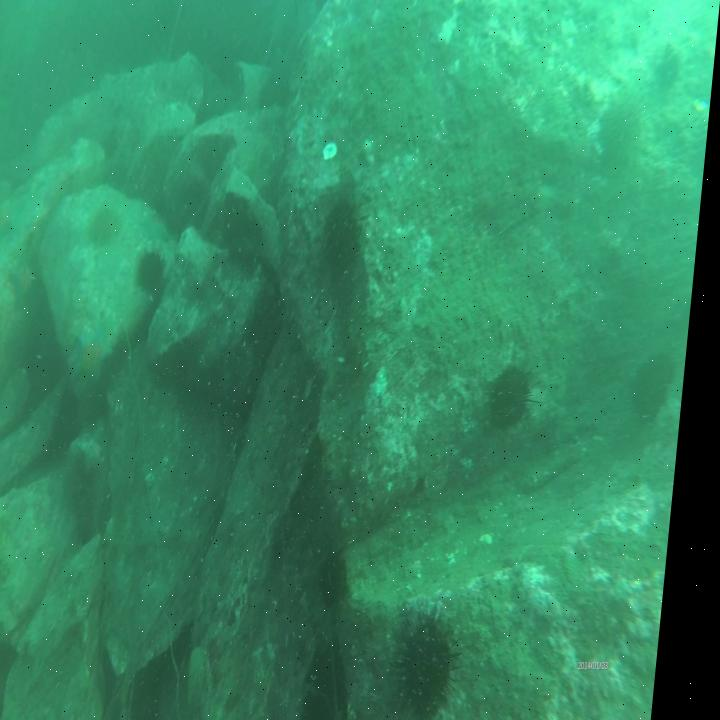echinus: (401, 602, 480, 718), (491, 357, 550, 436), (324, 191, 371, 273), (636, 346, 684, 423), (327, 550, 363, 603), (142, 248, 172, 292)
starfish: (74, 321, 126, 388)
